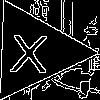X: (9, 26, 49, 73)
